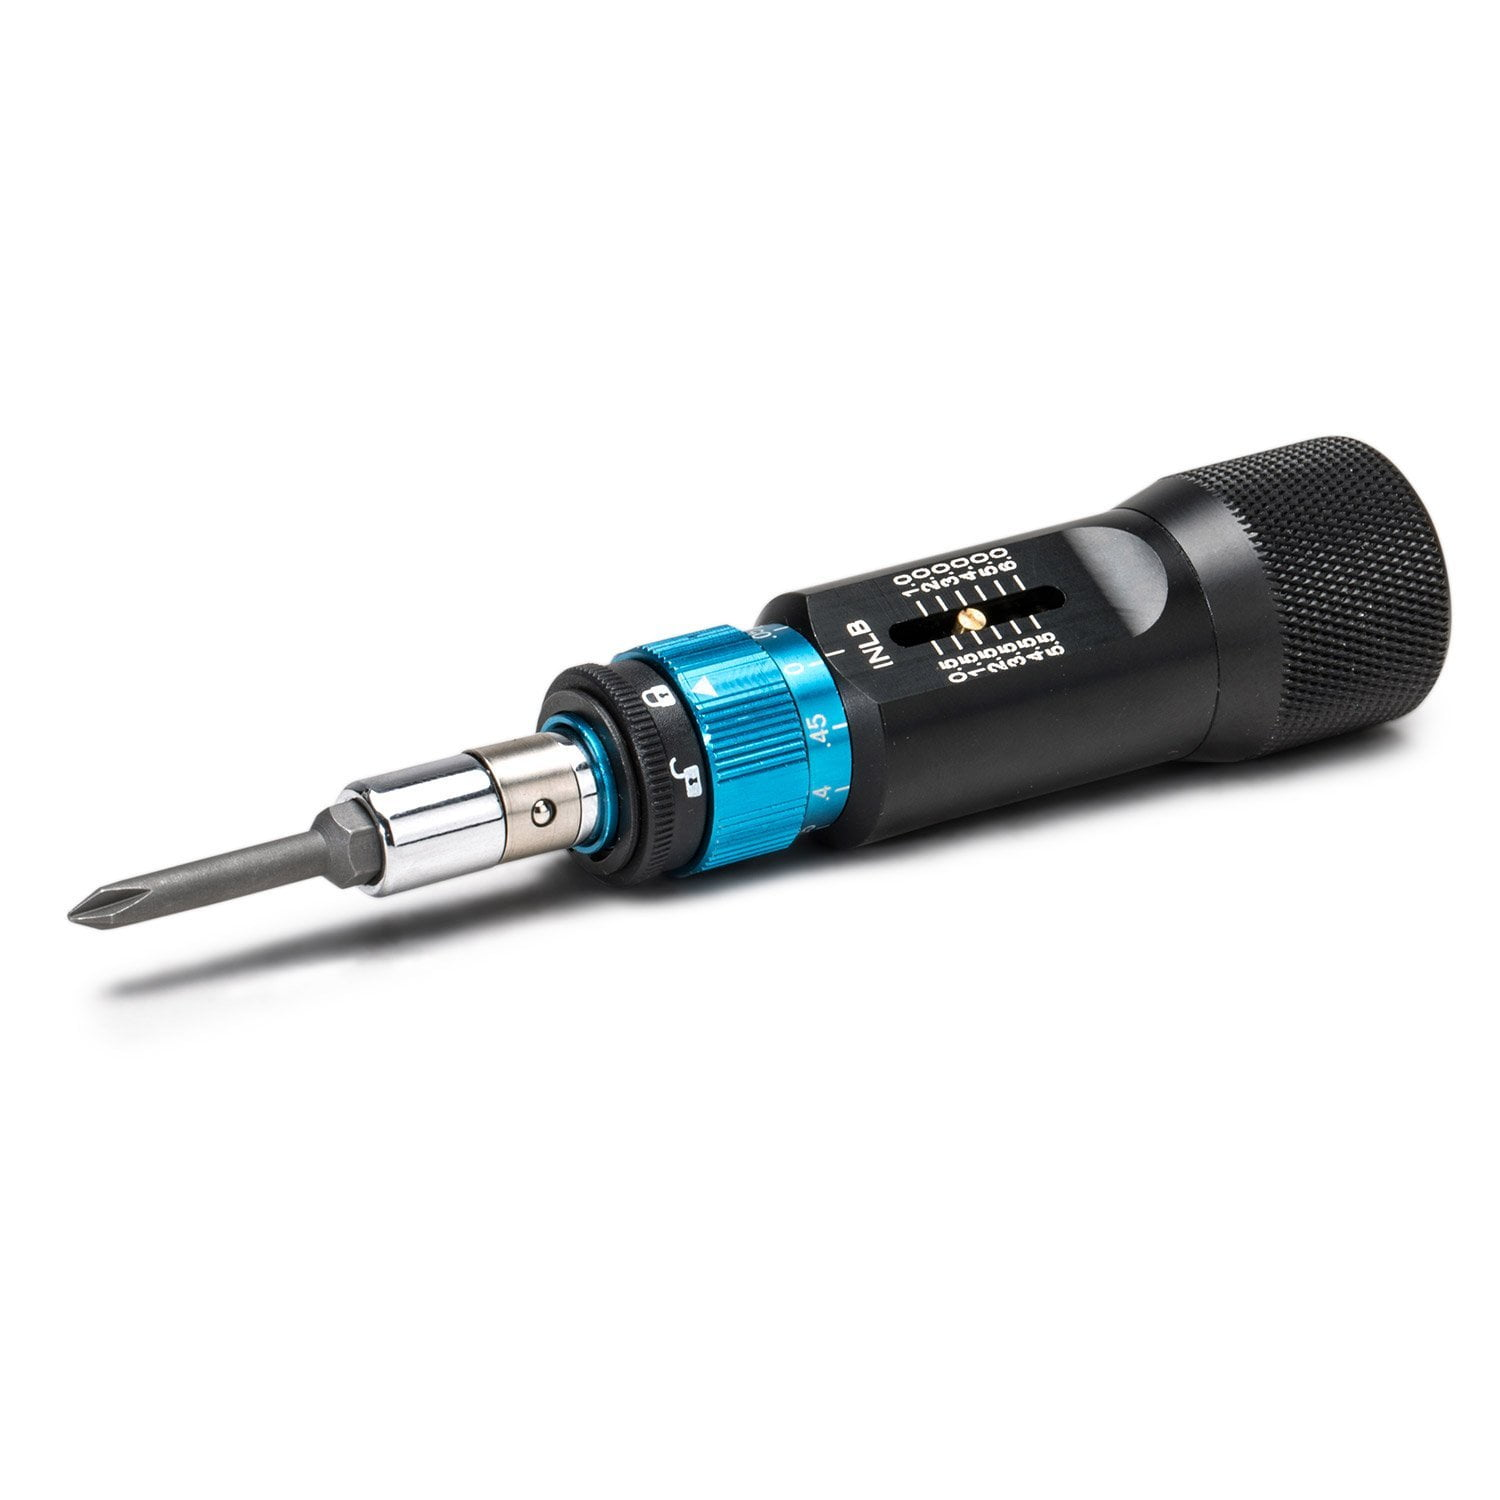screwdriver: (60, 424, 1457, 942)
